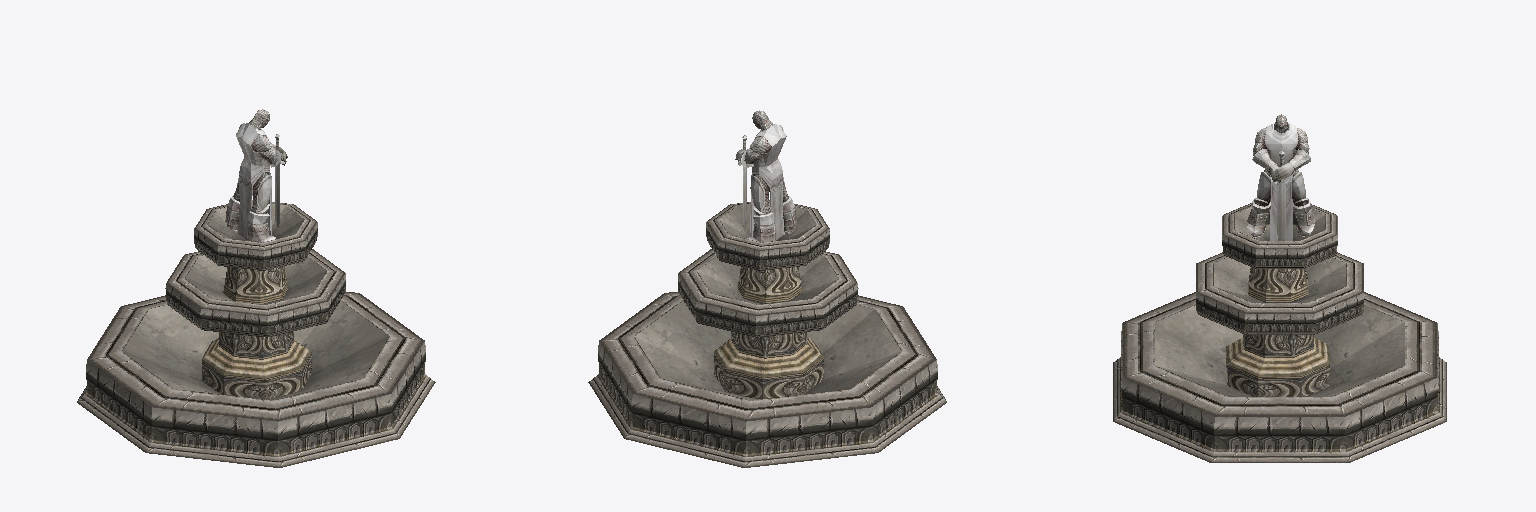
3 renders of one model, left to right at view 1: azimuth 30°, elevation 25°; view 2: azimuth 150°, elevation 25°; view 3: azimuth 270°, elevation 25°, orthographic.
Visible parts, largest first — view 1: stormwindfountain01.m2; view 2: stormwindfountain01.m2; view 3: stormwindfountain01.m2.
Boxes of the visible parts, x1,y1,x2,y2 form: stormwindfountain01.m2: [77, 109, 435, 467]; stormwindfountain01.m2: [588, 110, 946, 467]; stormwindfountain01.m2: [1113, 114, 1446, 462].
Bounding box in the file's own units: 10.07 × 9.57 × 10.07.
4 materials, 4 textured.